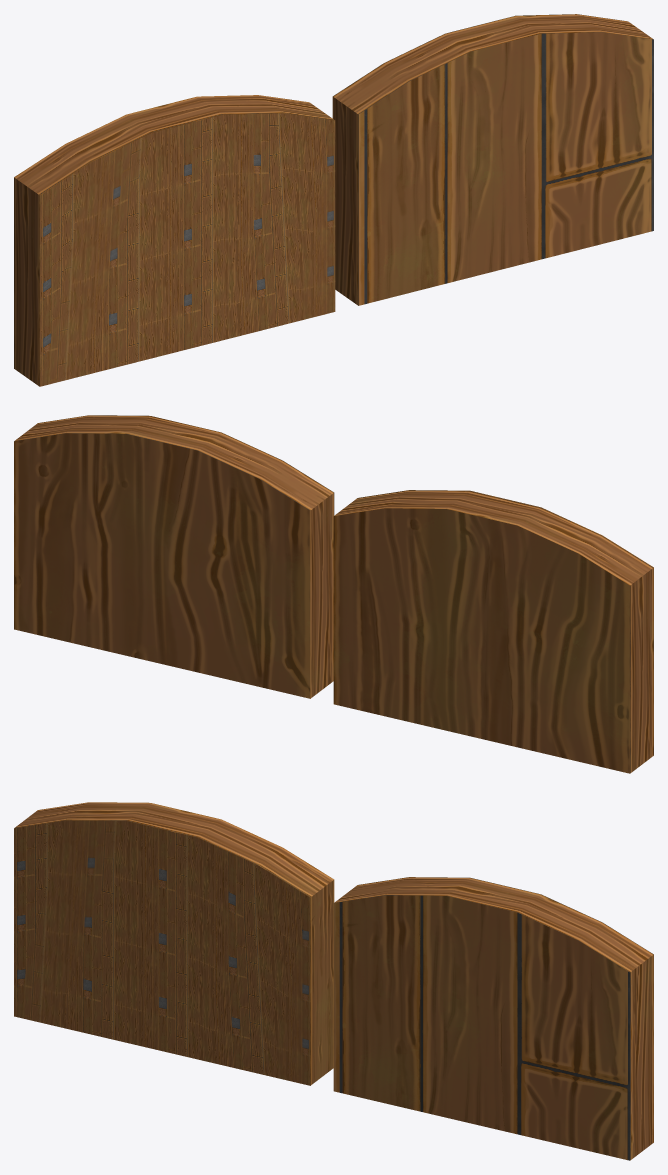
3 views of the same model, one above another, from view 1: azimuth 30°, elevation 25°; view 2: azimuth 150°, elevation 25°; view 3: azimuth 330°, elevation 25° (orthographic).
Visible parts, largest first — view 1: Cube.1412; view 2: Cube.1412; view 3: Cube.1412.
Part boxes in pixels (left/top/right/bottom): Cube.1412: left=14, top=14, right=653, bottom=386; Cube.1412: left=14, top=415, right=653, bottom=773; Cube.1412: left=14, top=802, right=653, bottom=1160.
Bounding box in the file's own units: 322 × 112 × 28.09.
Materials: 1 (1 with a texture image).
